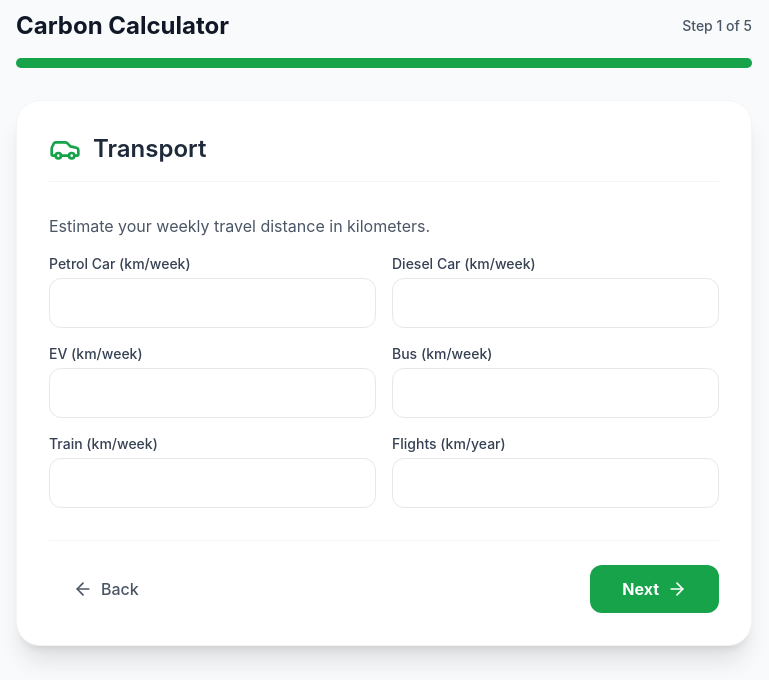
Test: Calculator Page › should show Diet section on step 3
Click the button "Next".
click(655, 589)  # box top-left (590, 565), bottom-right (719, 613)
Wait 3000 ms
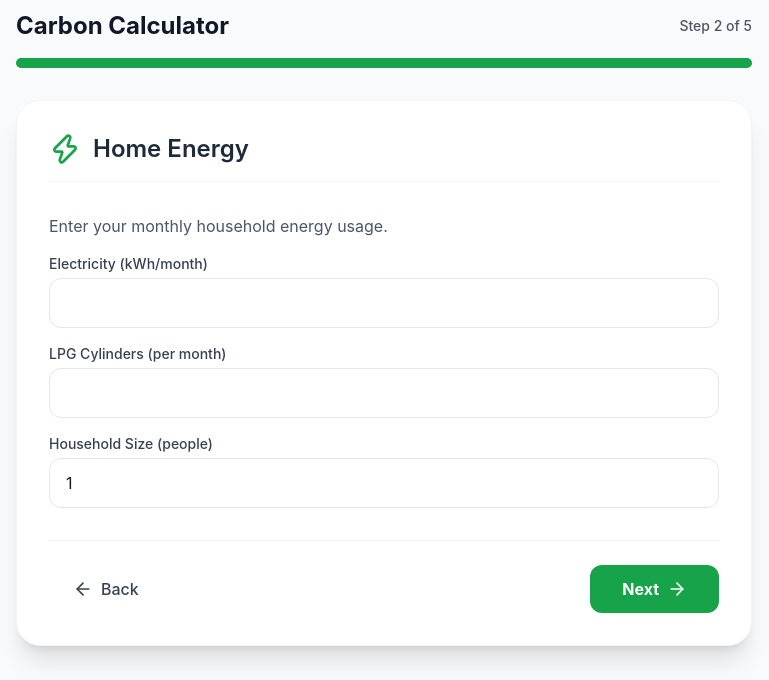
Click the button "Next".
click(655, 589)  # box top-left (590, 565), bottom-right (719, 613)
Wait 3000 ms
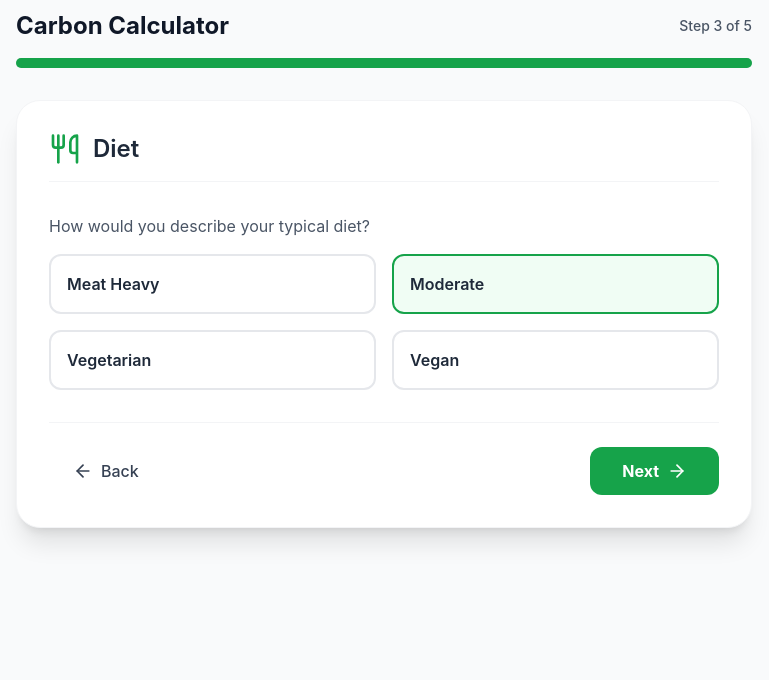
Check: the heading "Diet" is shown, box top-left (93, 133), bottom-right (139, 165)
